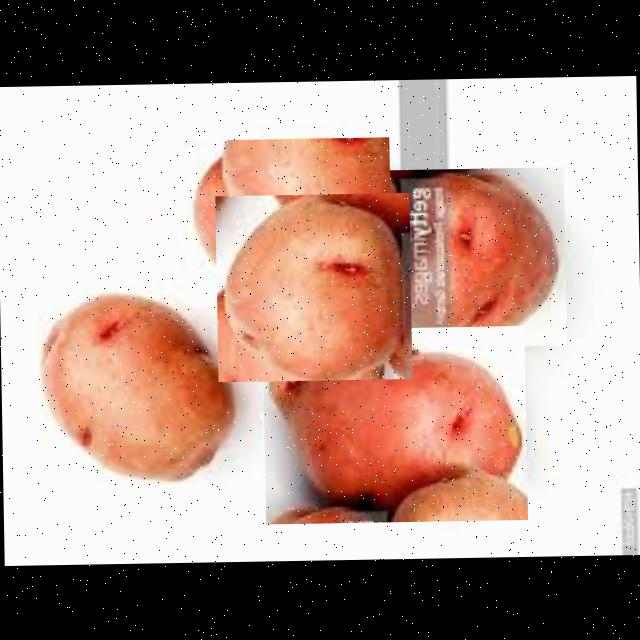Defected potato: (262, 324, 528, 523), (35, 283, 241, 485), (215, 192, 412, 380), (183, 136, 392, 306), (379, 166, 566, 347)
